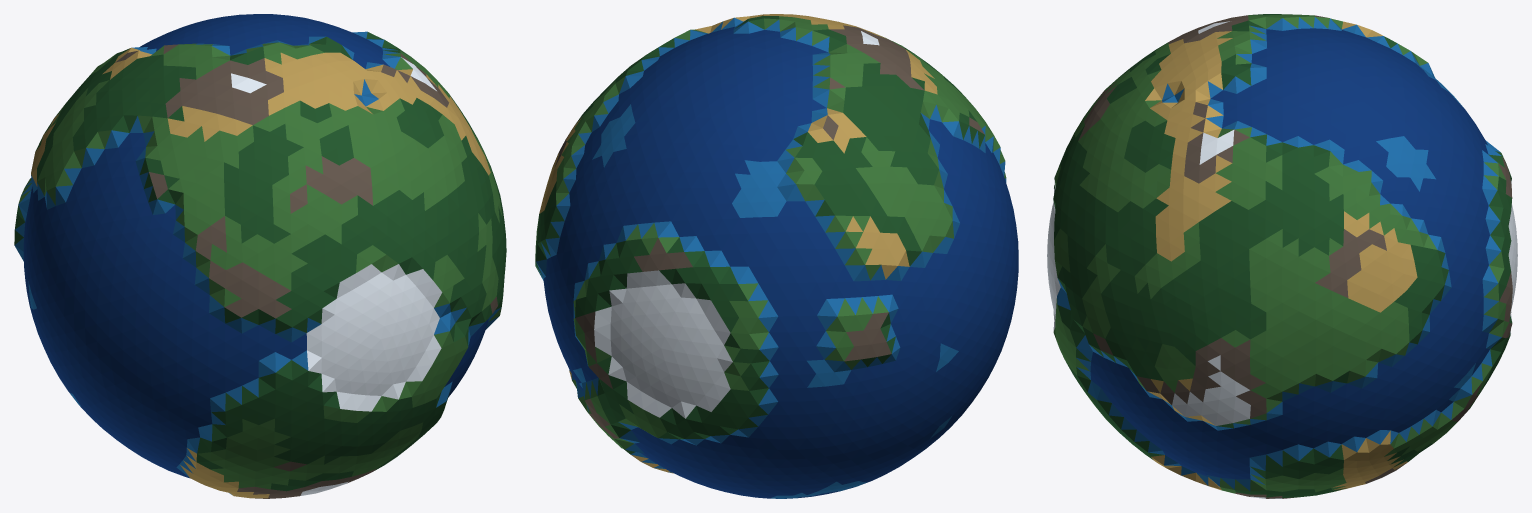
Rendered from earth.glb.
3 views of the same model, side by side, from view 1: azimuth 30°, elevation 25°; view 2: azimuth 150°, elevation 25°; view 3: azimuth 270°, elevation 25° (orthographic).
Visible parts, largest first — view 1: Earth; view 2: Earth; view 3: Earth.
Part boxes in pixels (x1,y1,x2,y2): Earth: [14, 14, 506, 498]; Earth: [535, 14, 1018, 498]; Earth: [1047, 14, 1517, 498].
Bounding box in the file's own units: 2.02 × 2.03 × 2.01.
